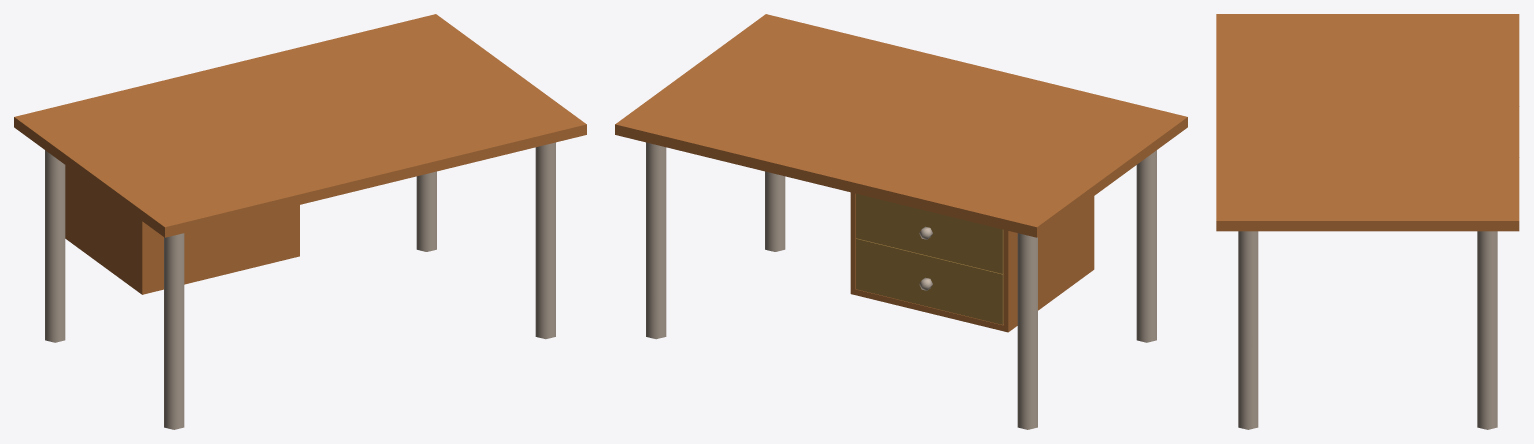
Rendered from table.fbx.
3 views of the same model, side by side, from view 1: azimuth 30°, elevation 25°; view 2: azimuth 150°, elevation 25°; view 3: azimuth 270°, elevation 25° (orthographic).
Visible parts, largest first — view 1: Würfel_2; view 2: Würfel_2; view 3: Würfel_2.
Part boxes in pixels (left/top/right/bottom): Würfel_2: left=14, top=14, right=586, bottom=429; Würfel_2: left=615, top=14, right=1187, bottom=429; Würfel_2: left=1216, top=14, right=1519, bottom=429.
Size of the model in its own units: 210 by 102 by 130.
Materials: 1 (1 with a texture image).
